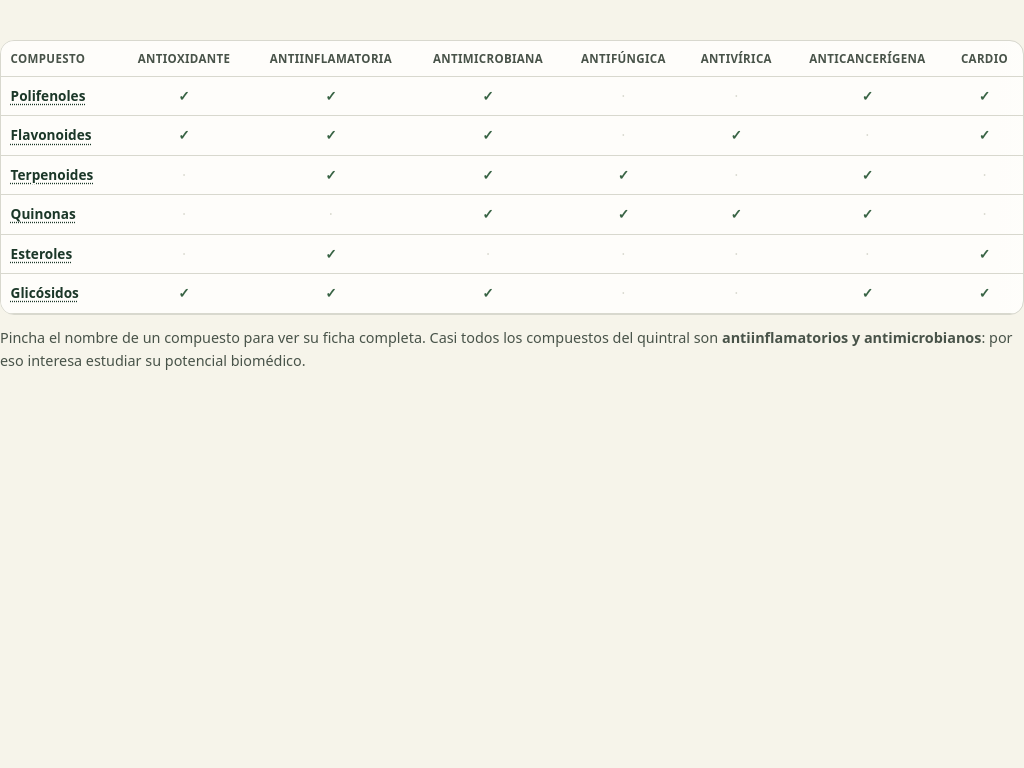
BibliotecaFito › al pinchar el nombre del compuesto en la tabla abre un modal con el detalle
Click the button "Polifenoles" at (48, 96), box left=11, top=85, right=85, bottom=107
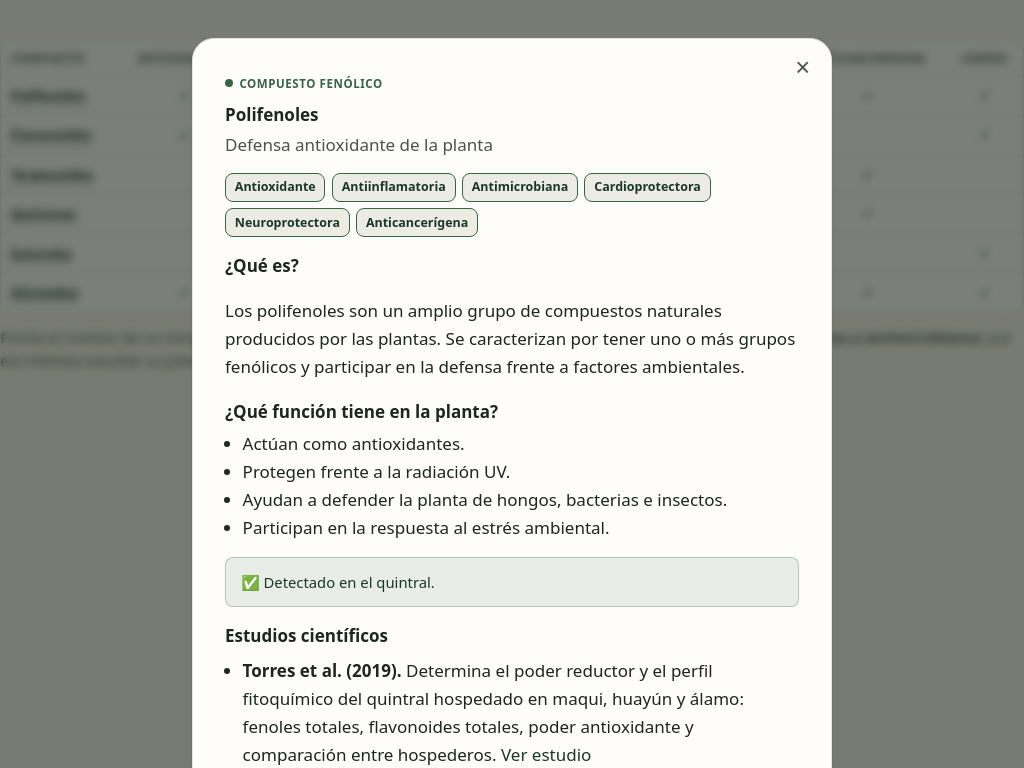
Result: the text "Defensa antioxidante de la planta" is shown at left=225, top=134, right=493, bottom=156
Result: the text "¿Qué es?" is shown at left=225, top=254, right=299, bottom=277
Result: the text "✅ Detectado en el quintral." is shown at left=225, top=557, right=799, bottom=607
